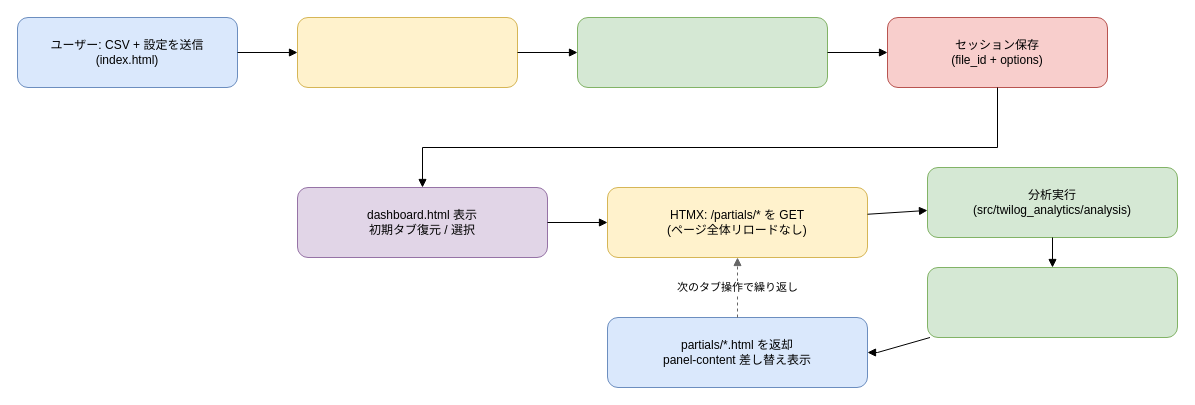
This 1195x405 diagram has some shape labels left out. The shapes that lost their labels are listed below. From the top down, each one's centre as x and y in pixels, then its label:
pixel 407 52: FastAPI 受信 (app/routes/views.py)
pixel 702 52: CSV 読み込み・前処理 (src/twilog_analytics/data)
pixel 1052 302: 可視化生成 (Plotly / Matplotlib / WordCloud)
